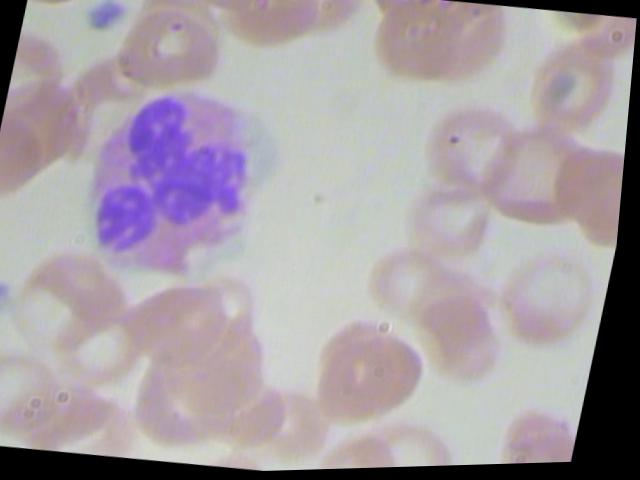Platelets: (81, 0, 129, 46), (0, 270, 28, 316), (0, 308, 6, 346)
White Blood Cells: (61, 77, 308, 293)
